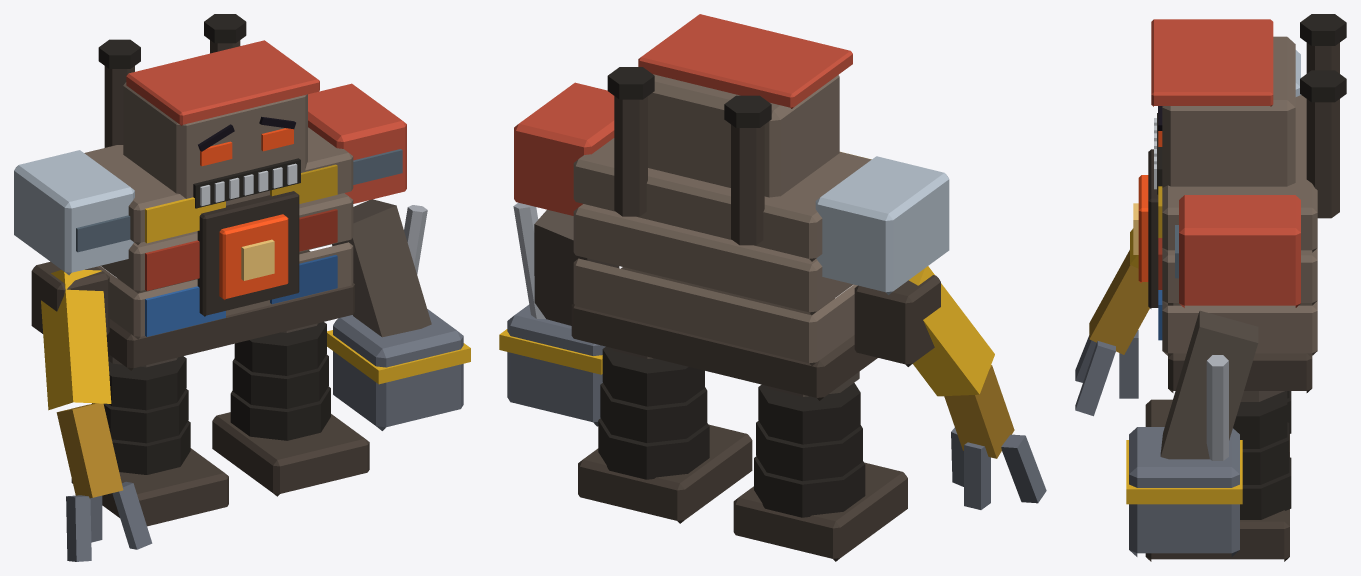
File: r7_boss_scrap_titan.glb
The picture shows the model from 3 angles, left to right: view 1: azimuth 30°, elevation 25°; view 2: azimuth 150°, elevation 25°; view 3: azimuth 270°, elevation 25°; orthographic projection. The views are drawn at different scales.
Visible parts, largest first — view 1: r7_boss_scrap_titan_mesh; view 2: r7_boss_scrap_titan_mesh; view 3: r7_boss_scrap_titan_mesh.
Part boxes in pixels (x1,y1,x2,y2): r7_boss_scrap_titan_mesh: (14, 14, 470, 561); r7_boss_scrap_titan_mesh: (499, 14, 1046, 561); r7_boss_scrap_titan_mesh: (1075, 14, 1346, 561).
Size of the model in its own units: 8.52 by 8 by 4.37.
1 material, 1 textured.
